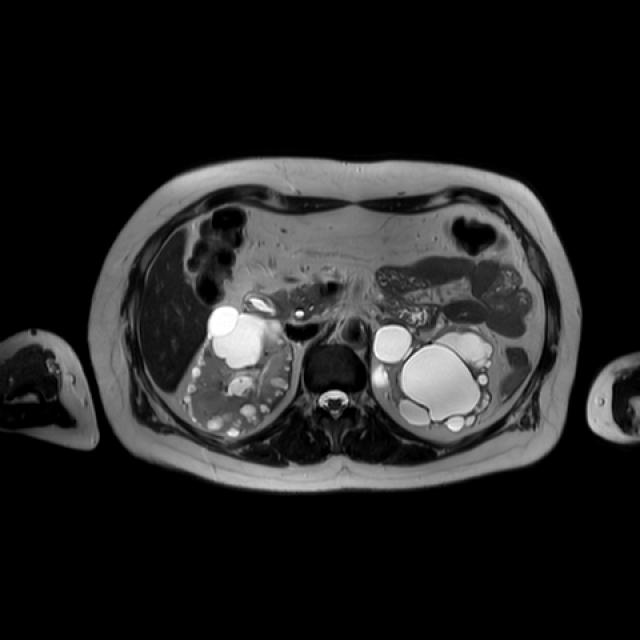sag: (183, 303, 294, 439)
sol: (371, 323, 497, 433)
